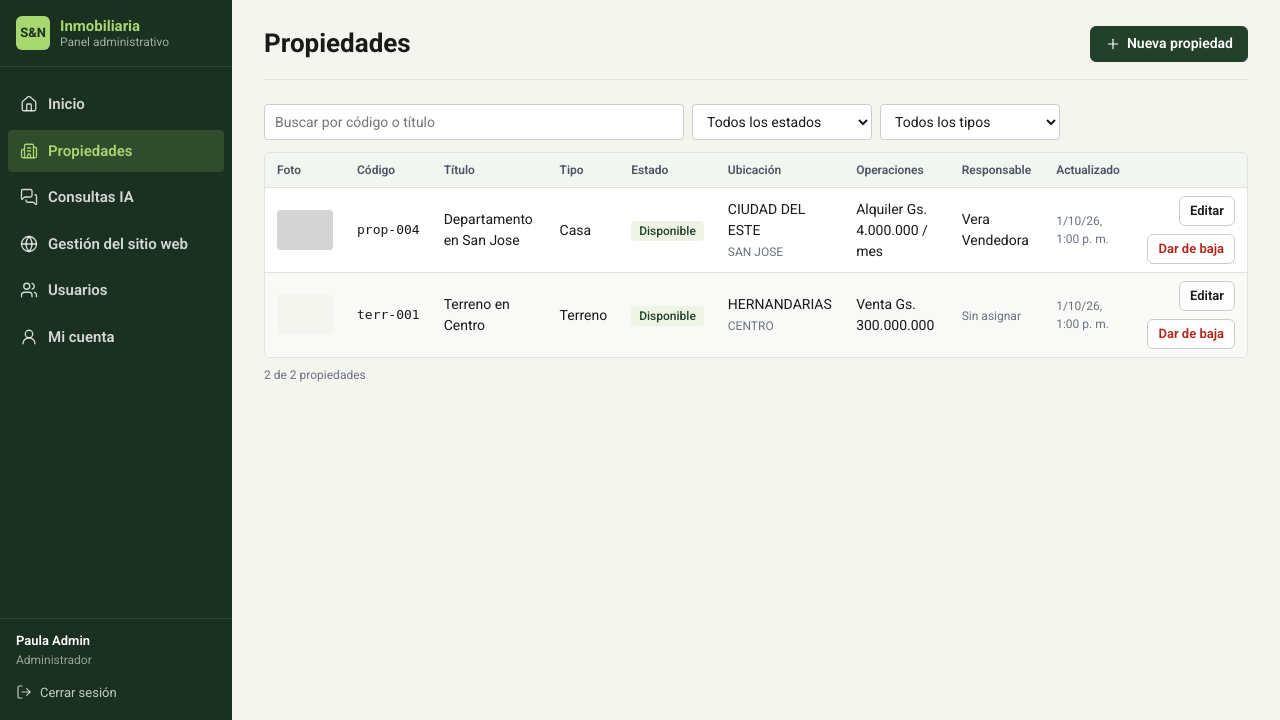
Test: Listado › muestra las propiedades y filtra por texto y tipo
The width and height of the screenshot is (1280, 720).
Expected: the text "prop-004" is shown, [345,188,432,272]
Expected: the text "terr-001" is shown, [345,272,432,357]
Select "Terreno" in the dropdown named "Tipo" at x=970, y=122, box [880,104,1060,140]
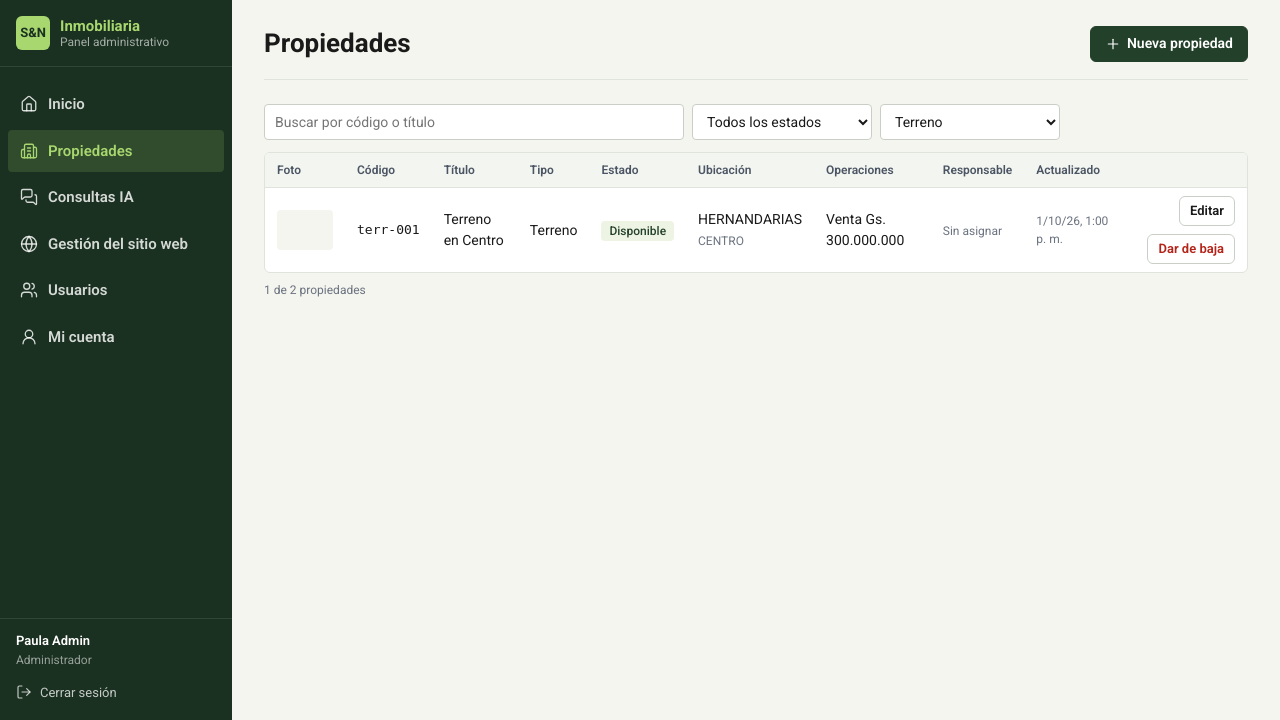
Expected: the text "prop-004" is gone
Select "Todos los tipos" in the dropdown named "Tipo" at x=970, y=122, box [880,104,1060,140]
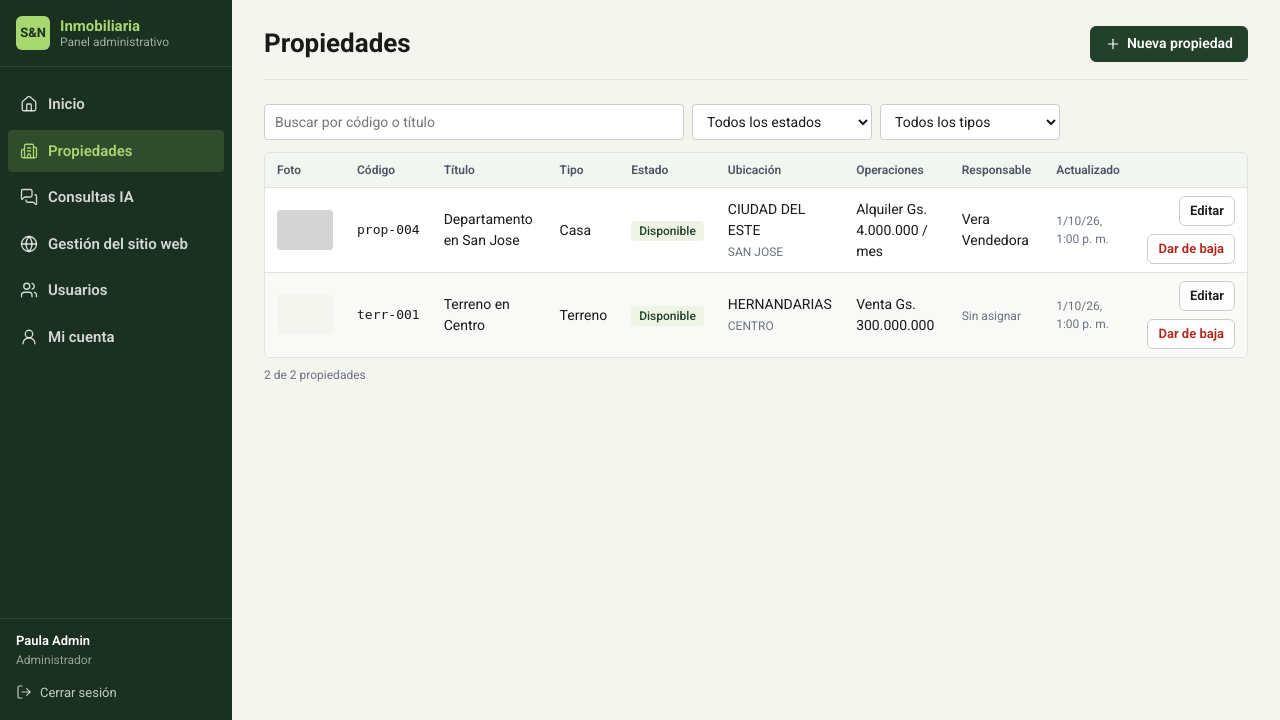
Type "san jose" into the field labelled "Buscar".
click(474, 122); type("san jose")  # box [264,104,684,140]
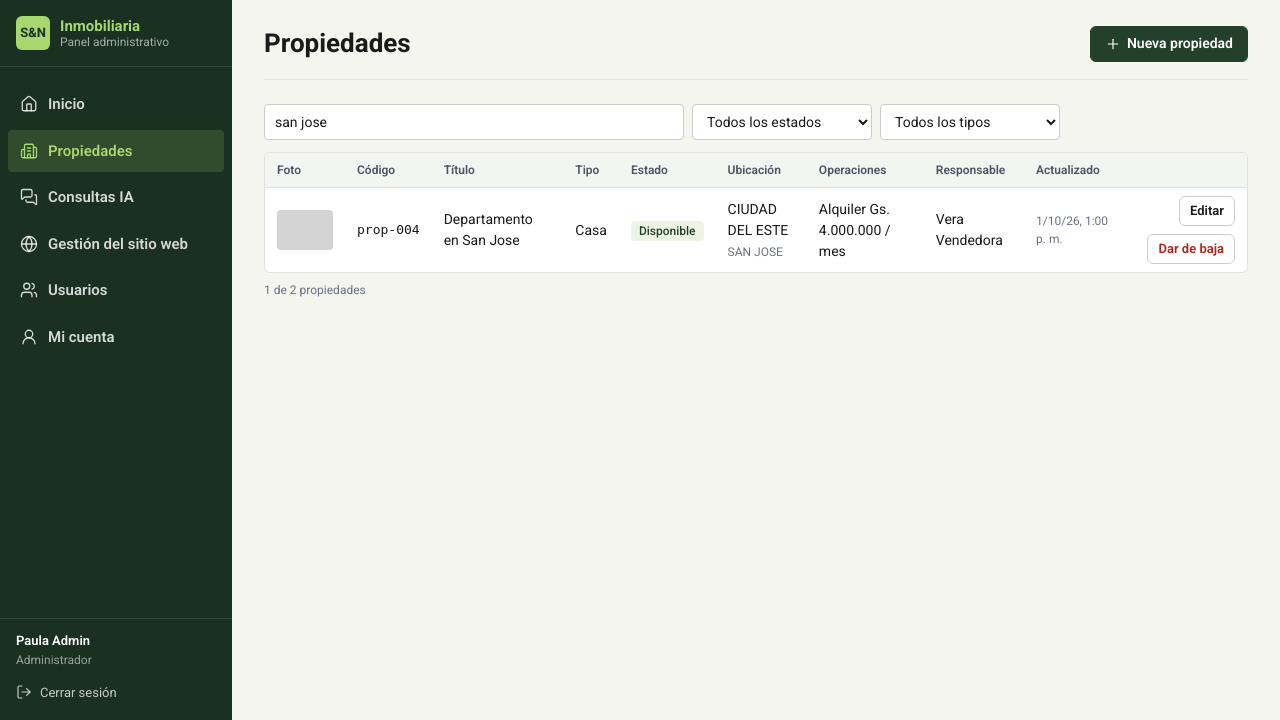
Expected: the text "prop-004" is shown, [345,188,432,272]
Expected: the text "terr-001" is gone
